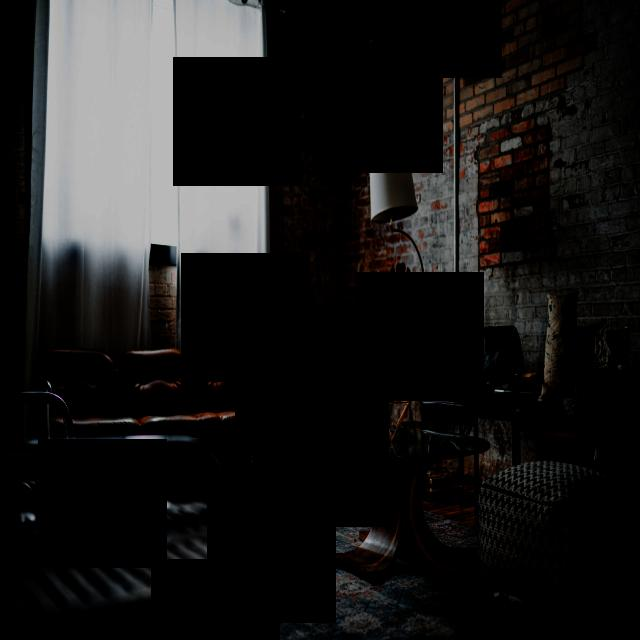vintage chair: (510, 320, 633, 466)
vintage desk: (315, 429, 492, 581)
vintage sofa: (33, 342, 294, 465)
